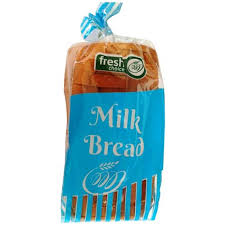bread: (56, 9, 164, 218)
